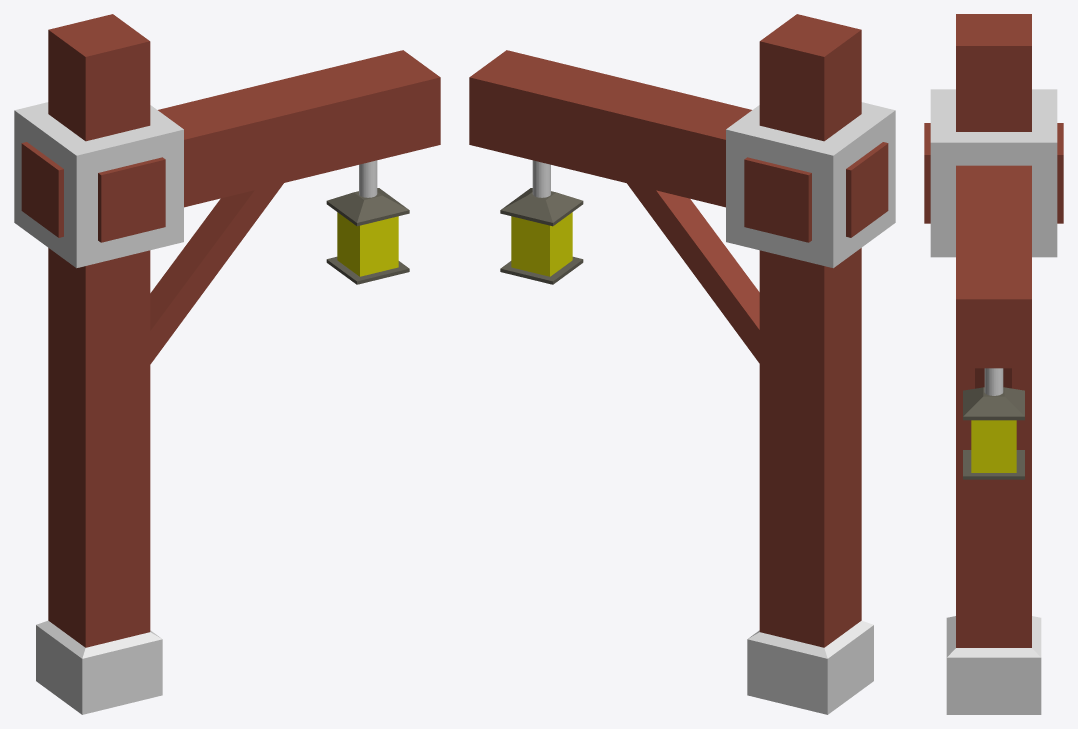
Rendered from street wodd lamp.fbx.
3 renders of one model, left to right at view 1: azimuth 30°, elevation 25°; view 2: azimuth 150°, elevation 25°; view 3: azimuth 270°, elevation 25°, orthographic.
Visible parts, largest first — view 1: Cube; view 2: Cube; view 3: Cube.
Boxes of the visible parts, box(x1,y1,x2,y2) form: Cube: box(14, 14, 440, 714); Cube: box(469, 14, 895, 714); Cube: box(924, 14, 1063, 714).
Bounding box in the file's own units: 710 × 1160 × 220.
